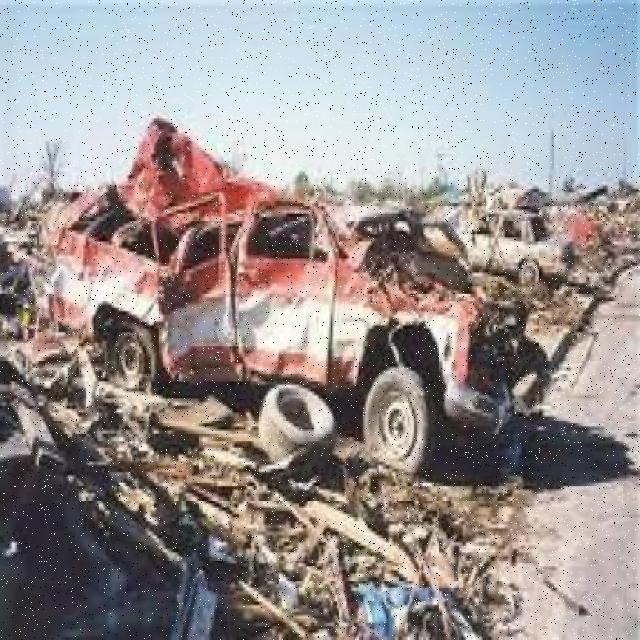damage: (47, 119, 513, 430)
